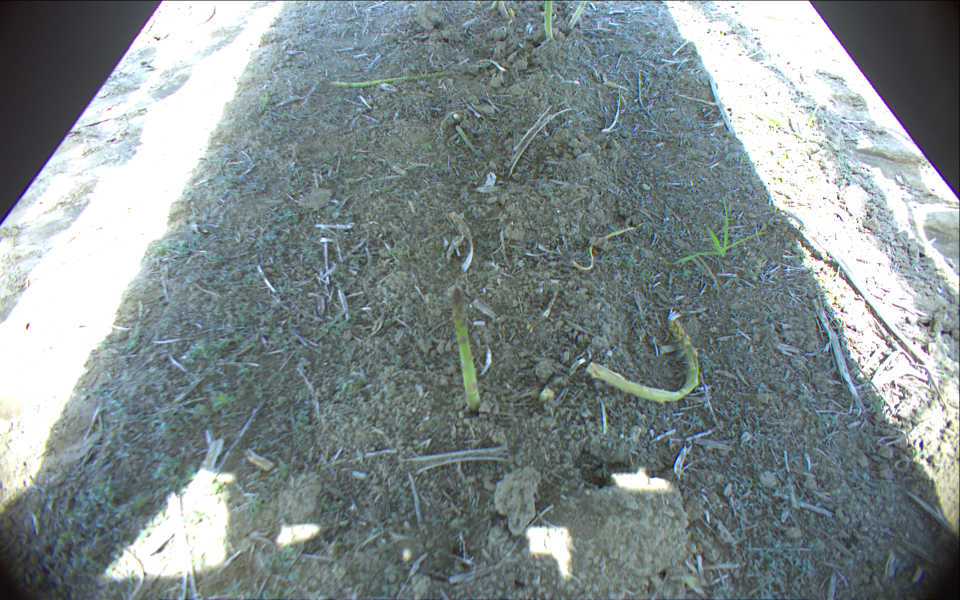aspa: (586, 317, 701, 402), (449, 289, 482, 411), (568, 226, 637, 272), (328, 69, 462, 87), (455, 127, 476, 157), (568, 1, 587, 30), (543, 1, 555, 39), (602, 81, 627, 91), (496, 1, 509, 19)
